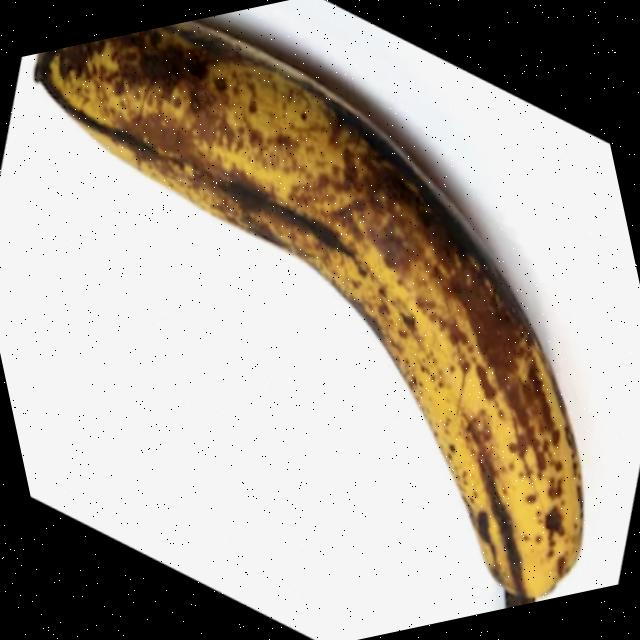overripe: (22, 0, 613, 640)
